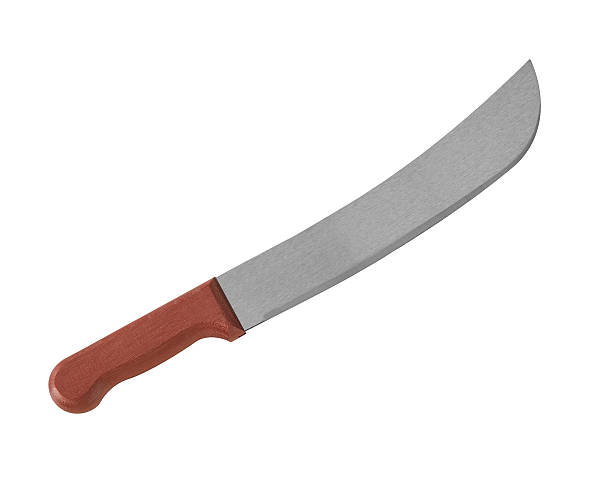knife: (48, 59, 540, 415)
